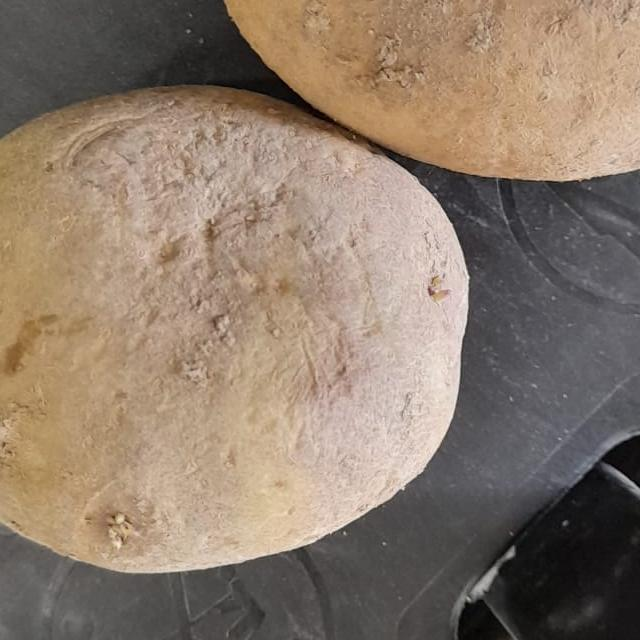potato: (0, 63, 543, 590), (209, 0, 640, 180)
